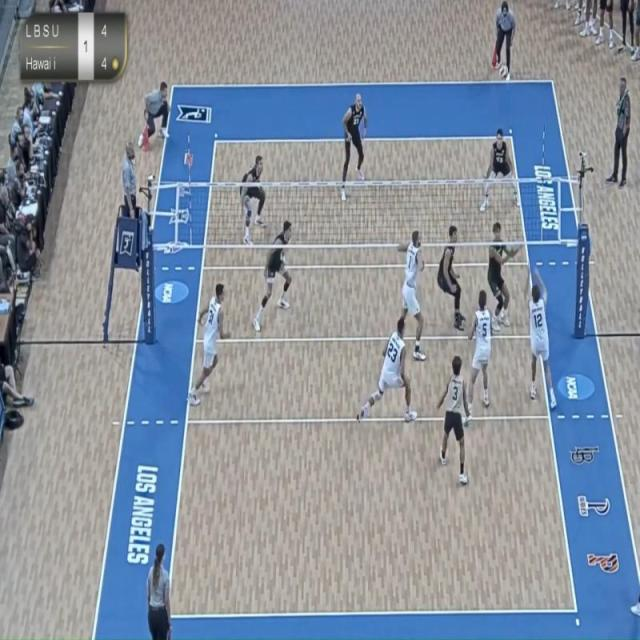volleyball: (496, 59, 512, 82)
